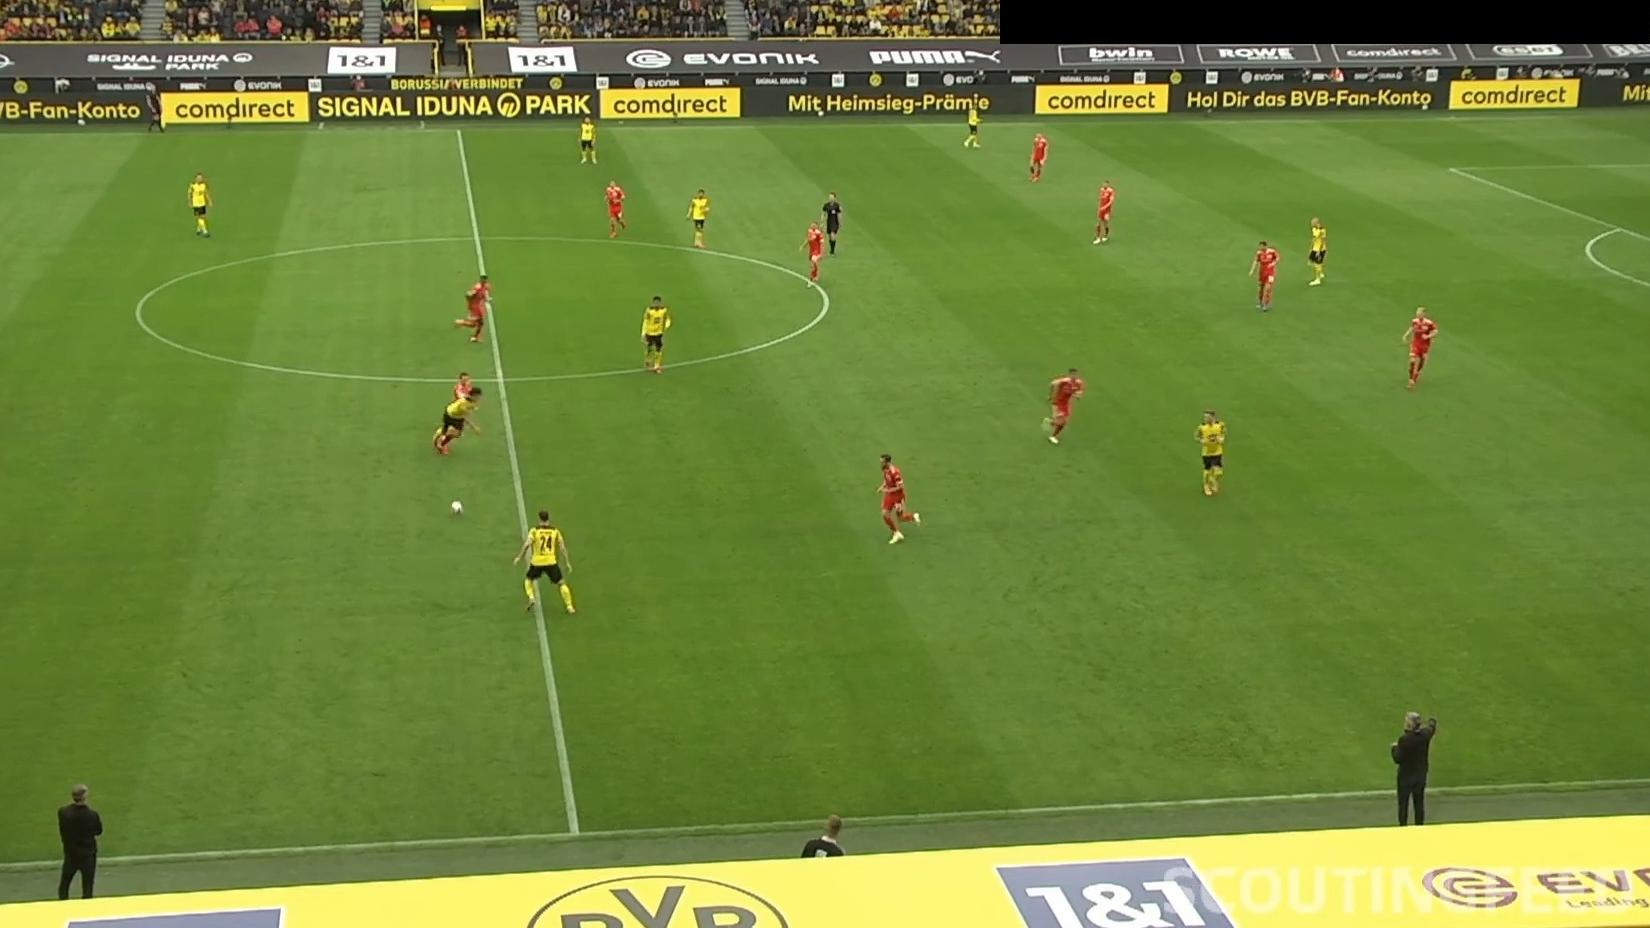ball: (449, 500, 466, 519)
